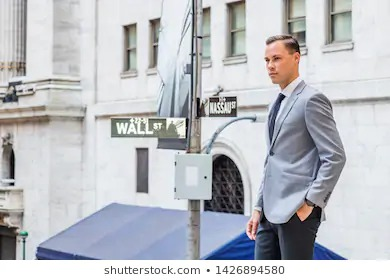F_M_suit jacket: (252, 72, 348, 222)
